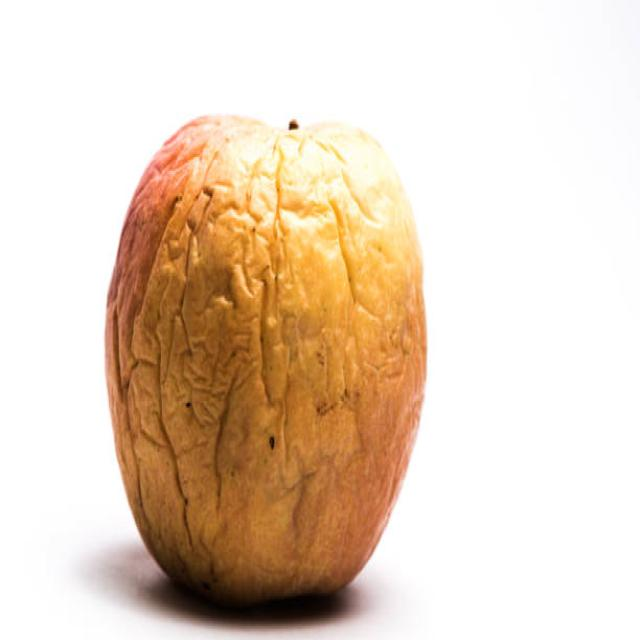overripe: (100, 103, 430, 620)
